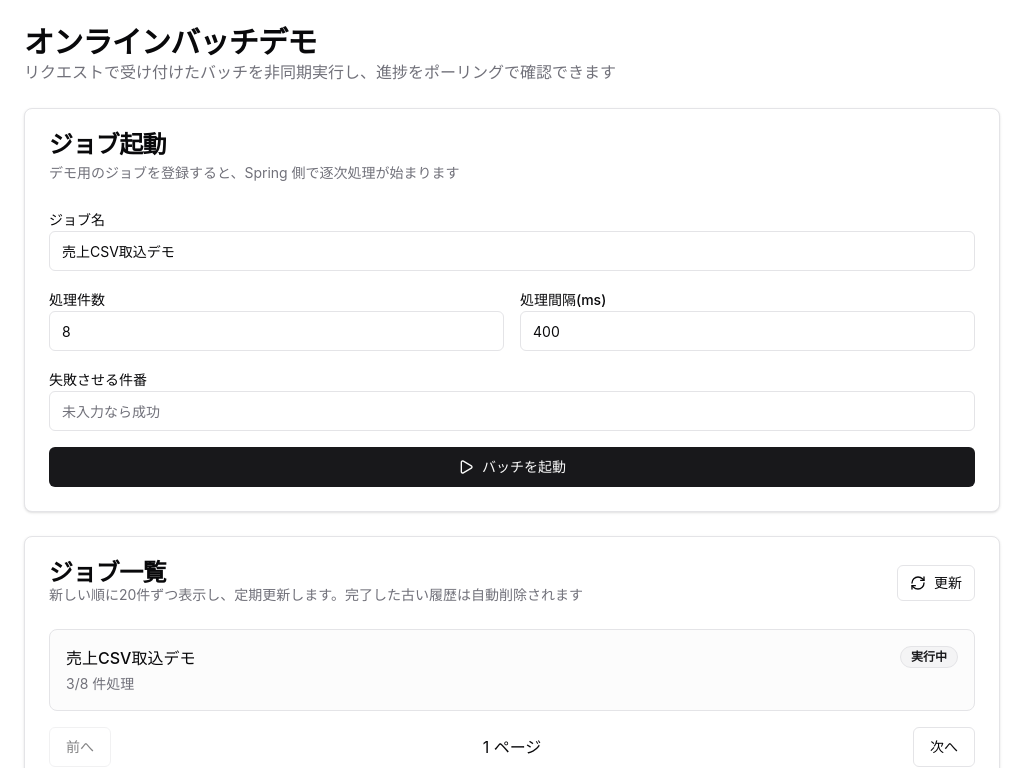
Test: OnlineBatchDemoPage › ページを前後に移動し、選択した詳細を維持する
The image size is (1024, 768).
Click the button "売上CSV取込デモ 3/8 件処理 実行中": (131, 658) [49, 629, 975, 711]
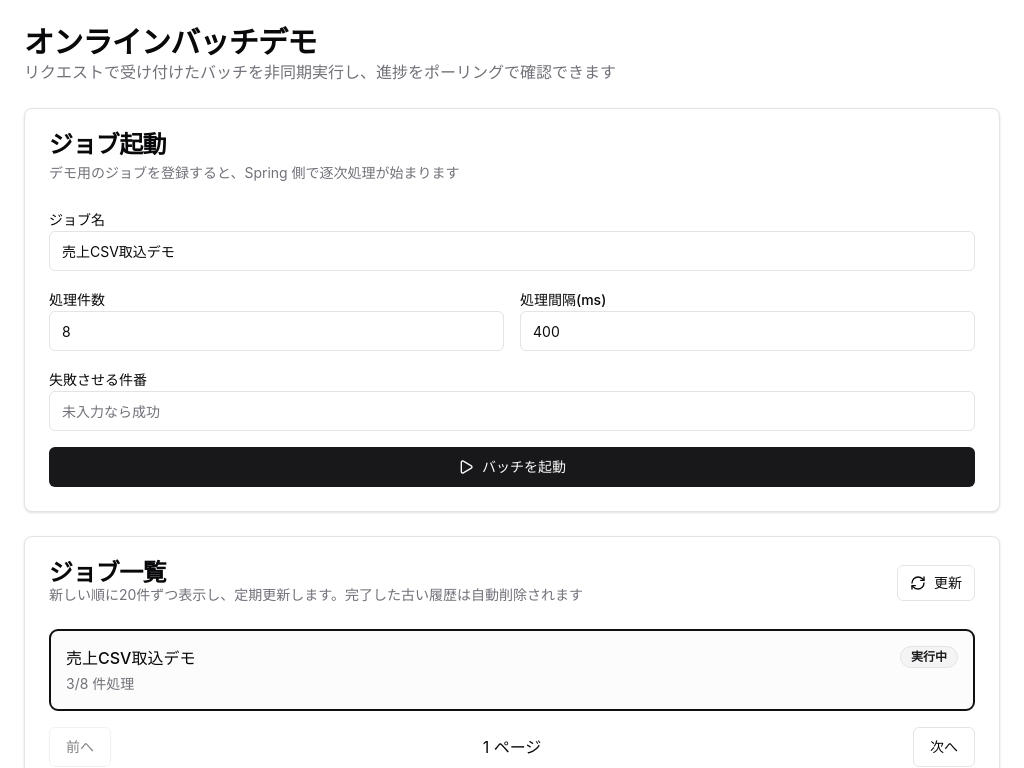
Expected: the button "前へ" is disabled, [49, 727, 111, 767]
Click the button "次へ": (944, 747) [913, 727, 975, 767]
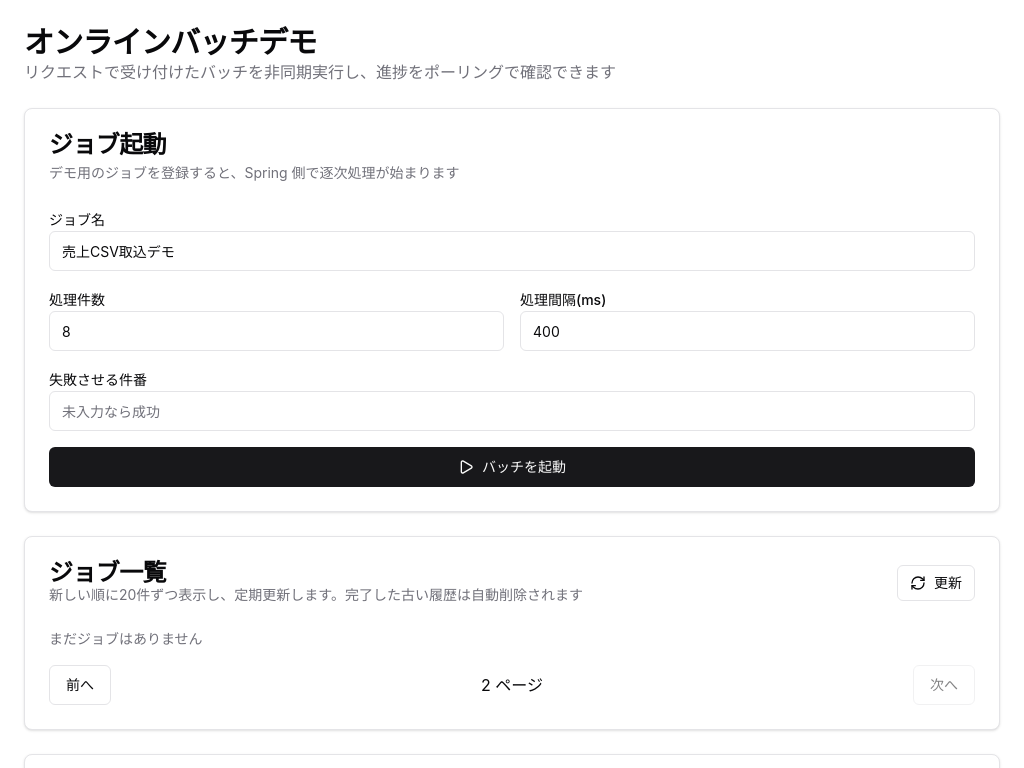
Expected: the text "まだジョブはありません" is shown, [49, 630, 203, 647]
Expected: the button "次へ" is disabled, [913, 665, 975, 705]
Click the button "前へ": (80, 685) [49, 665, 111, 705]
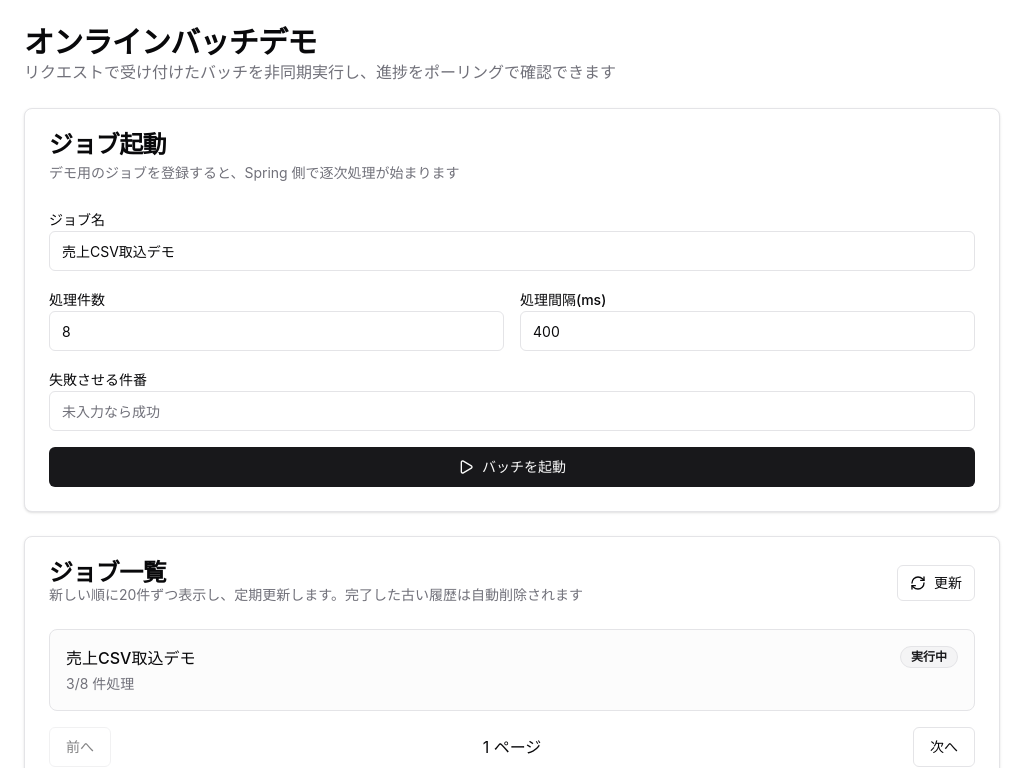
Expected: the button "売上CSV取込デモ 3/8 件処理 実行中" is shown, [49, 629, 975, 711]
